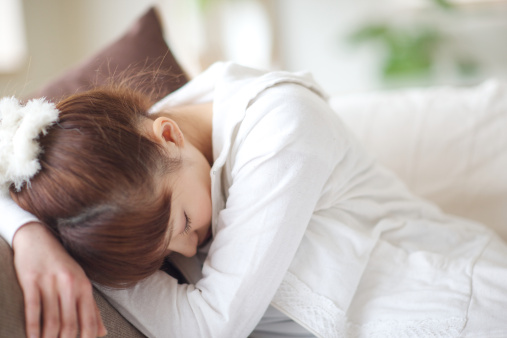deitado: (4, 64, 507, 338)
